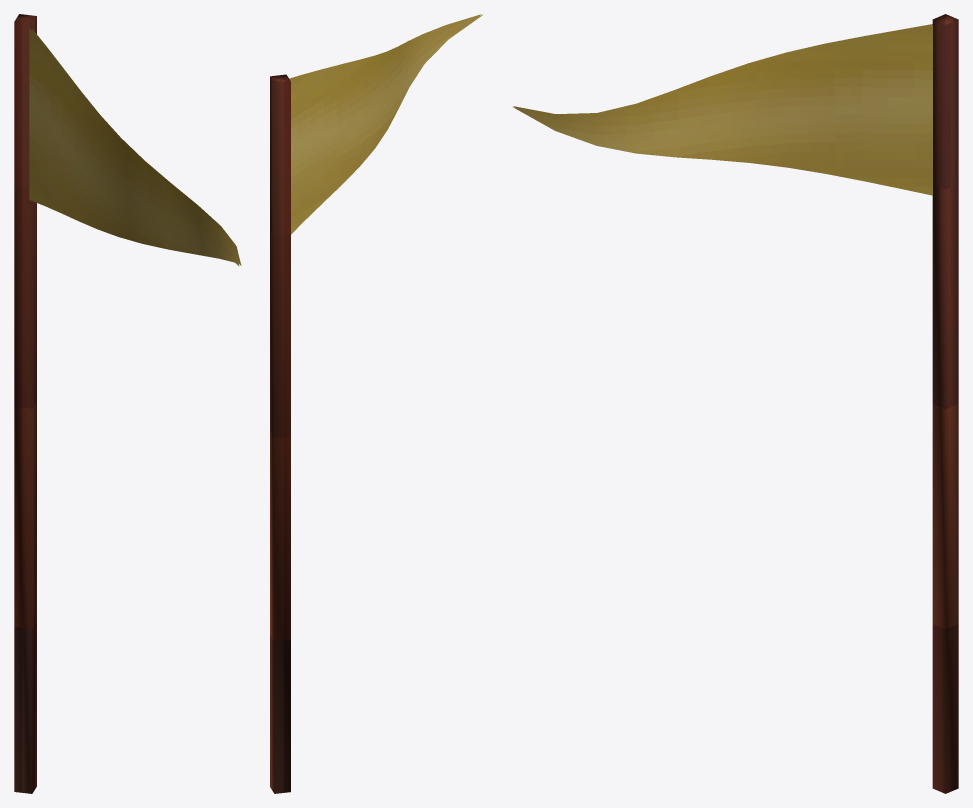
The model's file is PENNANT1_ACTORDEF.fbx.
The picture shows the model from 3 angles, left to right: view 1: azimuth 30°, elevation 25°; view 2: azimuth 150°, elevation 25°; view 3: azimuth 270°, elevation 25°; orthographic projection. The views are drawn at different scales.
Visible parts, largest first — view 1: U3DMesh; view 2: U3DMesh; view 3: U3DMesh.
Part boxes in pixels (x1,y1,x2,y2): U3DMesh: (14,14,241,793); U3DMesh: (270,14,483,793); U3DMesh: (513,14,958,793).
Size of the model in its own units: 0.4263 by 9.8 by 5.15.
